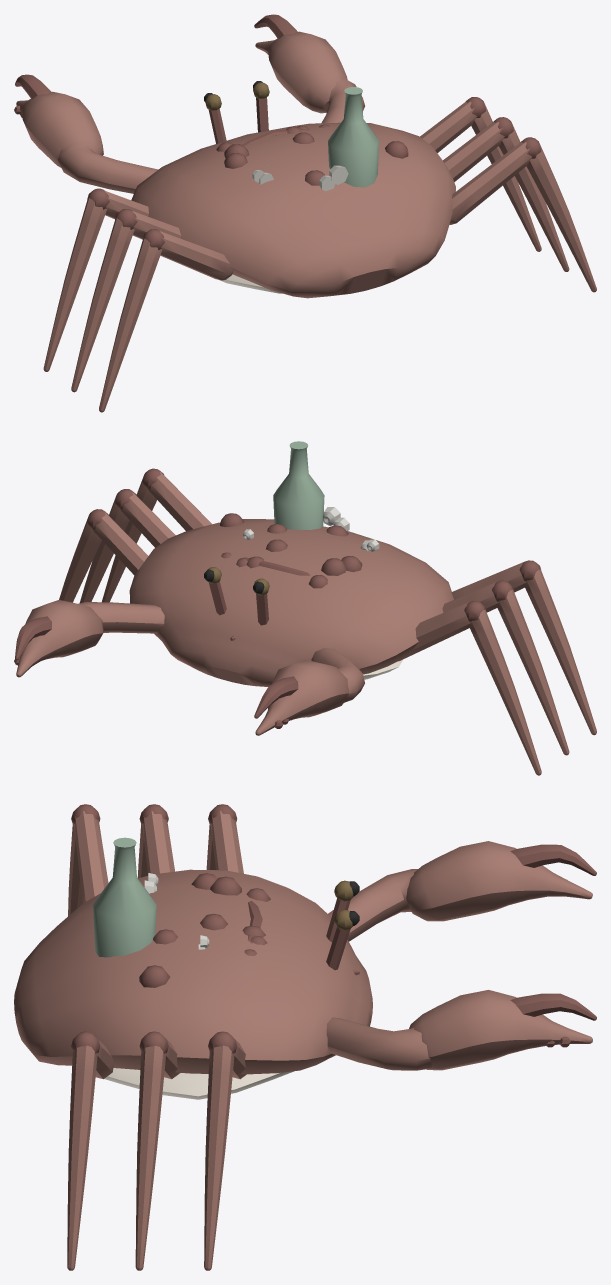
Rendered from en_reef_crab.gltf.
The picture shows the model from 3 angles, top to bottom: view 1: azimuth 30°, elevation 25°; view 2: azimuth 150°, elevation 25°; view 3: azimuth 270°, elevation 25°; orthographic projection. The views are drawn at different scales.
Visible parts, largest first — view 1: Hips, ClawL, ClawR, LegR3, LegL3, LegL2, LegL1, LegR2, V3_Bottle, LegR1, V1_Barnacles, EyeL (+2 smaller); view 2: Hips, ClawR, ClawL, LegL1, LegL3, LegL2, LegR1, V3_Bottle, LegR3, LegR2, PincerL, PincerR (+3 smaller); view 3: Hips, ClawR, ClawL, V3_Bottle, LegR3, LegR2, LegR1, LegL3, LegL2, LegL1, PincerL, PincerR (+2 smaller).
Part boxes in pixels (left/top/right/bottom): Hips: left=131, top=122, right=455, bottom=298; ClawL: left=14, top=91, right=158, bottom=193; ClawR: left=255, top=31, right=364, bottom=123; LegR3: left=449, top=137, right=596, bottom=292; LegL3: left=99, top=229, right=233, bottom=412; LegL2: left=71, top=209, right=181, bottom=392; LegL1: left=43, top=188, right=148, bottom=371; LegR2: left=443, top=117, right=569, bottom=271; V3_Bottle: left=328, top=87, right=379, bottom=187; LegR1: left=420, top=97, right=541, bottom=251; V1_Barnacles: left=252, top=165, right=348, bottom=191; EyeL: left=204, top=93, right=226, bottom=143; Hips: left=129, top=513, right=453, bottom=686; ClawR: left=14, top=600, right=164, bottom=677; ClawL: left=255, top=648, right=364, bottom=735; LegL1: left=398, top=601, right=541, bottom=775; LegL3: left=452, top=560, right=596, bottom=735; LegL2: left=442, top=580, right=569, bottom=755; LegR1: left=59, top=509, right=148, bottom=602; V3_Bottle: left=273, top=441, right=324, bottom=529; LegR3: left=102, top=468, right=211, bottom=602; LegR2: left=79, top=489, right=175, bottom=603; PincerL: left=254, top=676, right=298, bottom=718; PincerR: left=15, top=616, right=51, bottom=660; Hips: left=14, top=869, right=372, bottom=1099; ClawR: left=326, top=990, right=592, bottom=1070; ClawL: left=328, top=841, right=592, bottom=941; V3_Bottle: left=93, top=837, right=156, bottom=957; LegR3: left=67, top=1031, right=113, bottom=1270; LegR2: left=135, top=1031, right=179, bottom=1270; LegR1: left=204, top=1031, right=246, bottom=1270; LegL3: left=68, top=804, right=108, bottom=915; LegL2: left=137, top=804, right=174, bottom=878; LegL1: left=206, top=804, right=243, bottom=873; PincerL: left=510, top=844, right=596, bottom=875; PincerR: left=510, top=993, right=596, bottom=1020.
Bounding box in the file's own units: 1.46 × 0.6676 × 1.19.
